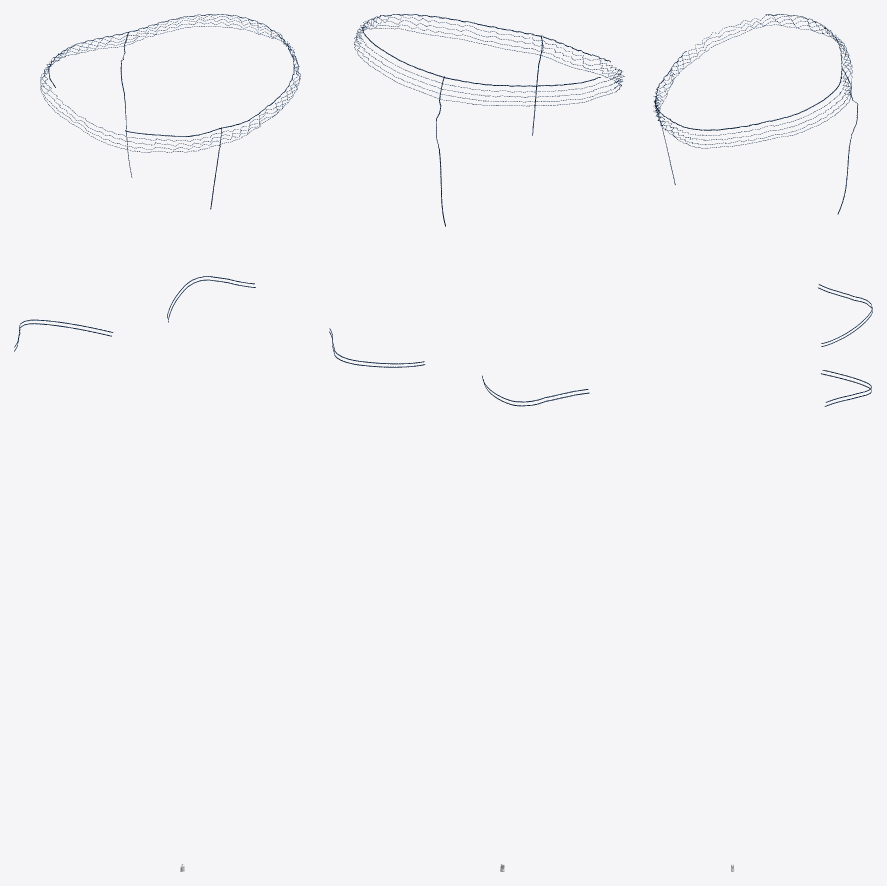
File: stringer1-transformed.glb
The picture shows the model from 3 angles, left to right: view 1: azimuth 30°, elevation 25°; view 2: azimuth 150°, elevation 25°; view 3: azimuth 270°, elevation 25°; orthographic projection. The views are drawn at different scales.
Visible parts, largest first — view 1: Puntada006_material_Shader[3355536]_0; view 2: Puntada006_material_Shader[3355536]_0; view 3: Puntada006_material_Shader[3355536]_0.
Part boxes in pixels (bbox=[...]): Puntada006_material_Shader[3355536]_0: bbox=[14, 14, 300, 351]; Puntada006_material_Shader[3355536]_0: bbox=[329, 14, 624, 406]; Puntada006_material_Shader[3355536]_0: bbox=[653, 14, 872, 406].
Size of the model in its own units: 35.66 by 111 by 27.38.
4 materials, 3 textured.
